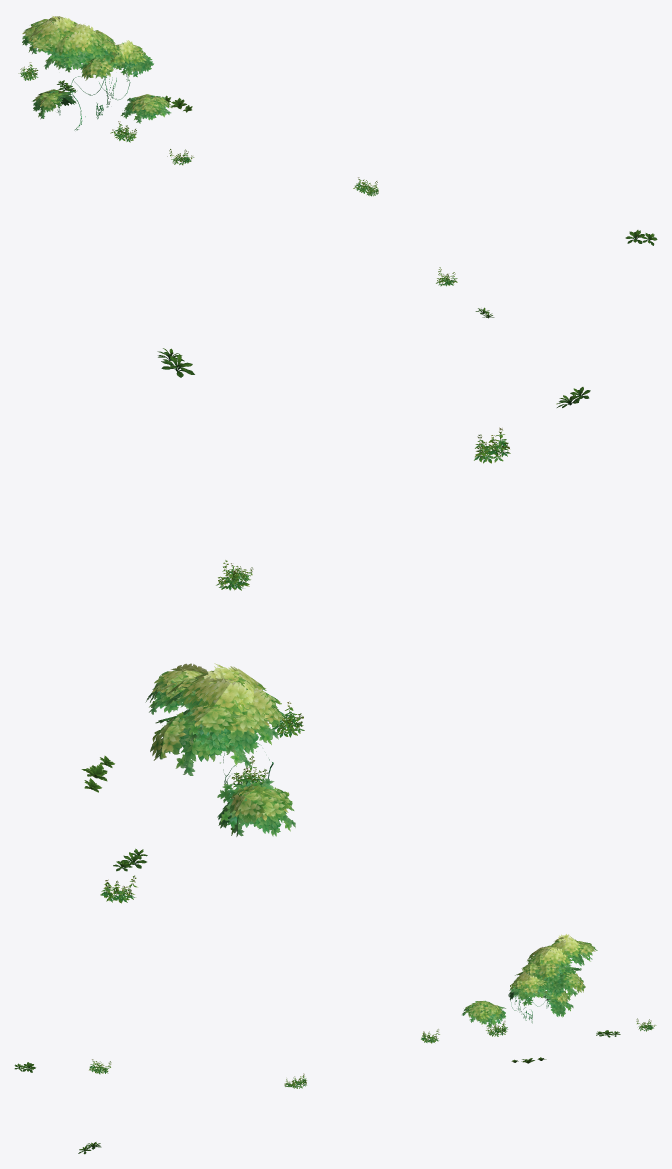
Rendered from zhibei19_1.fbx.
3 renders of one model, top to bottom at view 1: azimuth 30°, elevation 25°; view 2: azimuth 150°, elevation 25°; view 3: azimuth 270°, elevation 25°, orthographic. The views are drawn at different scales.
Visible parts, largest first — view 1: zhibei19_1; view 2: zhibei19_1; view 3: zhibei19_1.
Boxes of the visible parts, x1,y1,x2,y2 form: zhibei19_1: [18, 16, 657, 318]; zhibei19_1: [81, 348, 590, 903]; zhibei19_1: [14, 934, 656, 1154].
Bounding box in the file's own units: 4473 × 1220 × 8141.
